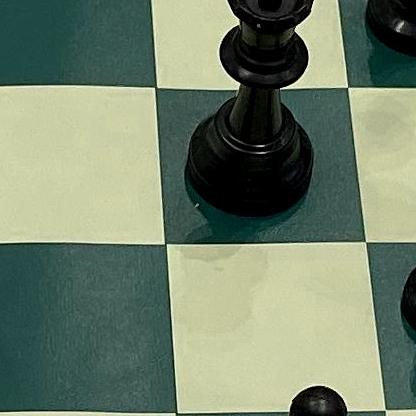black-pawn: (388, 183, 416, 354), (255, 376, 362, 416)
black-queen: (178, 0, 329, 225)
